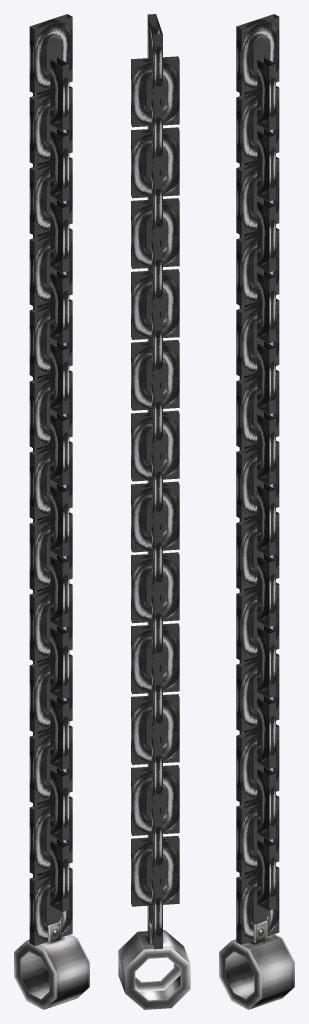
The model's file is SWORDLIGHT20_INST_CHAINB_LOD1_03.fbx.
3 views of the same model, side by side, from view 1: azimuth 90°, elevation 25°; view 2: azimuth 150°, elevation 25°; view 3: azimuth 270°, elevation 25° (orthographic).
Parts seen in each view (by area): view 1: SWORDLIGHT20_INST_CHAINB_LOD1_03; view 2: SWORDLIGHT20_INST_CHAINB_LOD1_03; view 3: SWORDLIGHT20_INST_CHAINB_LOD1_03.
Boxes of the visible parts, x1,y1,x2,y2 form: SWORDLIGHT20_INST_CHAINB_LOD1_03: [14, 14, 89, 1009]; SWORDLIGHT20_INST_CHAINB_LOD1_03: [118, 14, 190, 1009]; SWORDLIGHT20_INST_CHAINB_LOD1_03: [219, 14, 294, 1009].
Bounding box in the file's own units: 1650 × 22491 × 1580.
2 materials, 2 textured.
